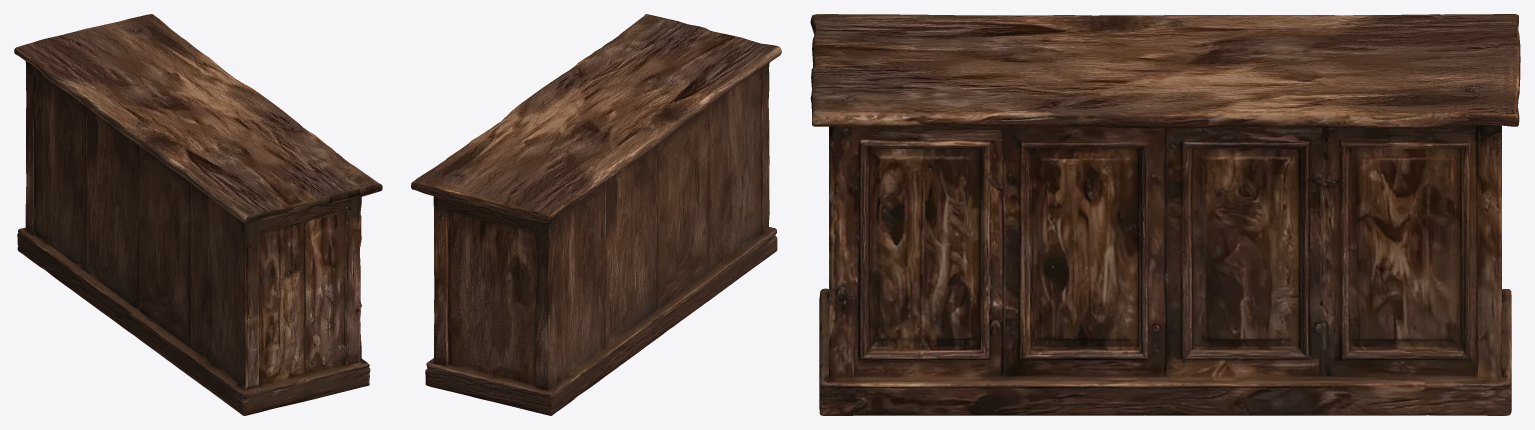
The model's file is counter.glb.
3 renders of one model, left to right at view 1: azimuth 30°, elevation 25°; view 2: azimuth 150°, elevation 25°; view 3: azimuth 270°, elevation 25°, orthographic. The views are drawn at different scales.
Visible parts, largest first — view 1: tripo_node_5646d767-1ef7-4b53-93ff-a5d7822bf3e6; view 2: tripo_node_5646d767-1ef7-4b53-93ff-a5d7822bf3e6; view 3: tripo_node_5646d767-1ef7-4b53-93ff-a5d7822bf3e6.
Part boxes in pixels (bbox=[...]): tripo_node_5646d767-1ef7-4b53-93ff-a5d7822bf3e6: bbox=[14, 14, 382, 415]; tripo_node_5646d767-1ef7-4b53-93ff-a5d7822bf3e6: bbox=[411, 14, 781, 415]; tripo_node_5646d767-1ef7-4b53-93ff-a5d7822bf3e6: bbox=[810, 14, 1520, 415].
Bounding box in the file's own units: 0.6076 × 0.8499 × 1.74.
Materials: 1 (1 with a texture image).
